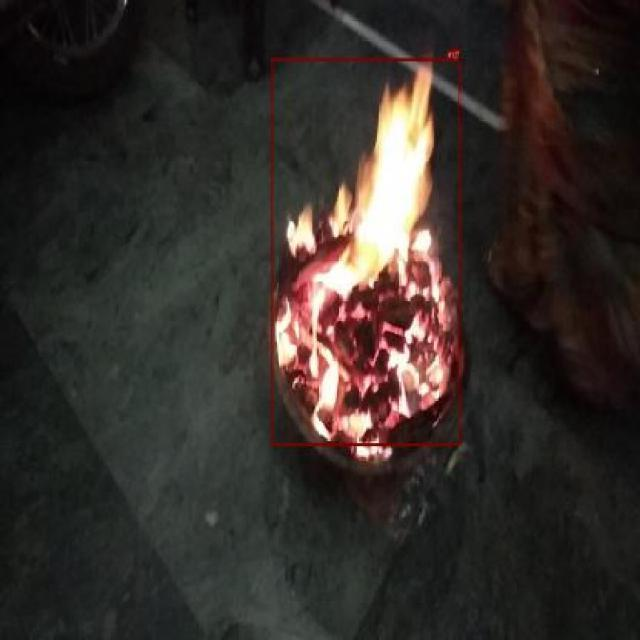Fire: (272, 58, 460, 446)
